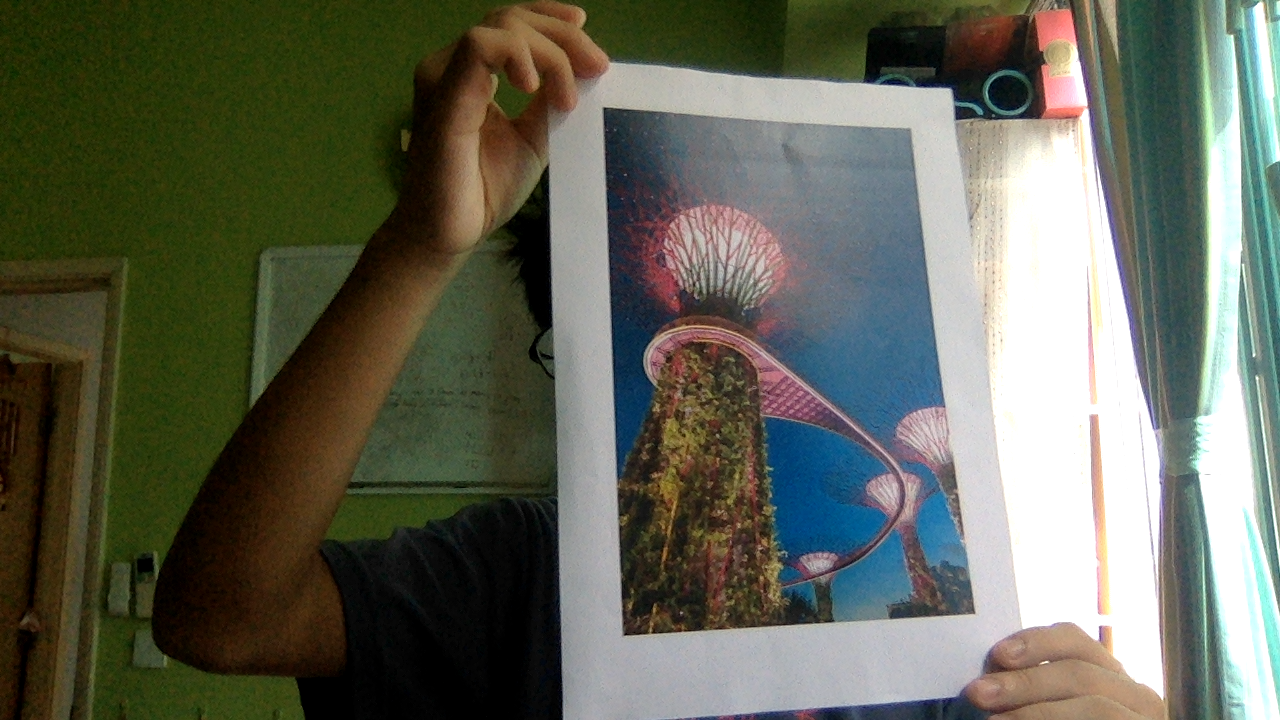GBTB: (591, 98, 991, 645)
